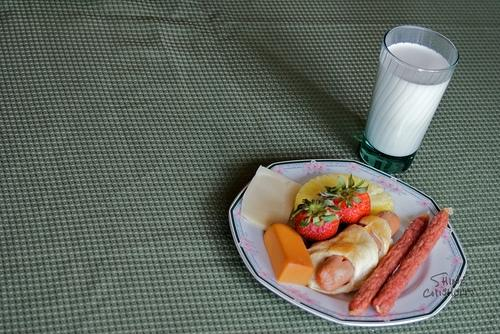pineapple: (294, 172, 394, 215)
strawberry: (316, 172, 371, 225), (290, 198, 342, 240)
